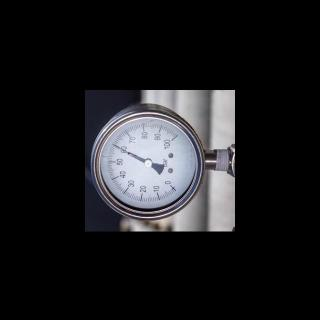gauge: (86, 104, 206, 230), (163, 177, 180, 193), (164, 131, 180, 147), (144, 158, 152, 166), (111, 142, 117, 148)
